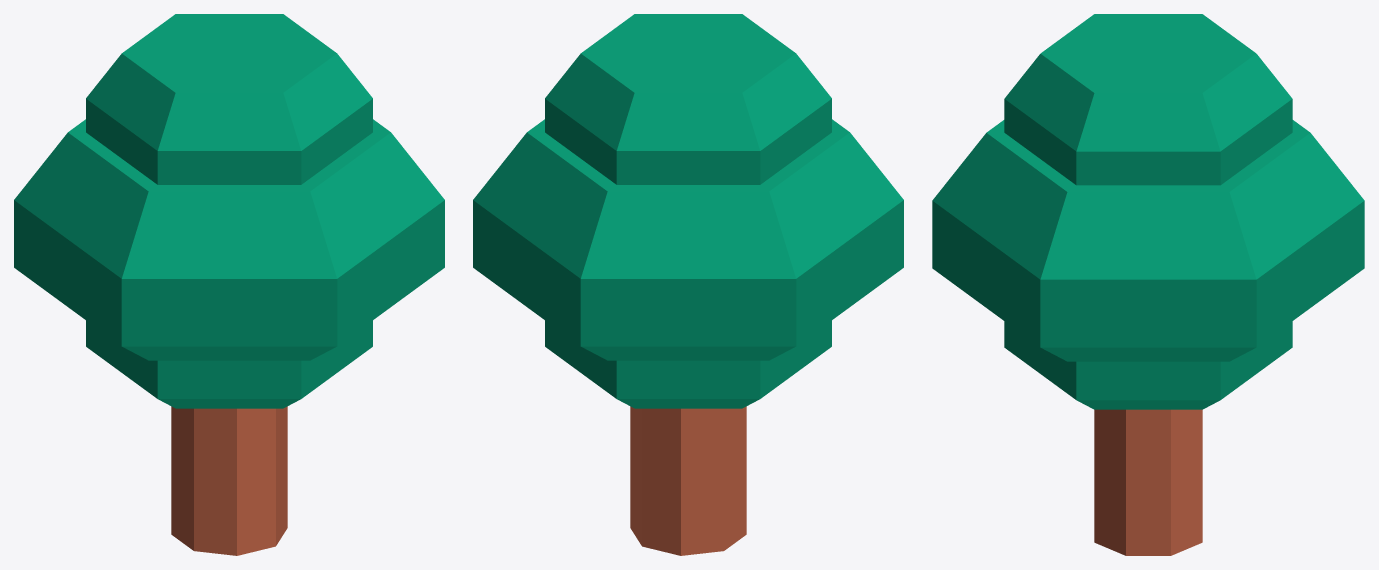
The model's file is tree2.fbx.
3 views of the same model, side by side, from view 1: azimuth 30°, elevation 25°; view 2: azimuth 150°, elevation 25°; view 3: azimuth 270°, elevation 25° (orthographic).
Visible parts, largest first — view 1: leafs_round (×3), trunk; view 2: leafs_round (×3), trunk; view 3: leafs_round (×3), trunk.
Part boxes in pixels (x1,y1,x2,y2): leafs_round (×3): [14, 14, 444, 408]; trunk: [171, 406, 287, 555]; leafs_round (×3): [473, 14, 903, 408]; trunk: [630, 406, 746, 555]; leafs_round (×3): [932, 14, 1364, 409]; trunk: [1094, 409, 1202, 555].
Size of the model in its own units: 15 by 21.2 by 17.32.
